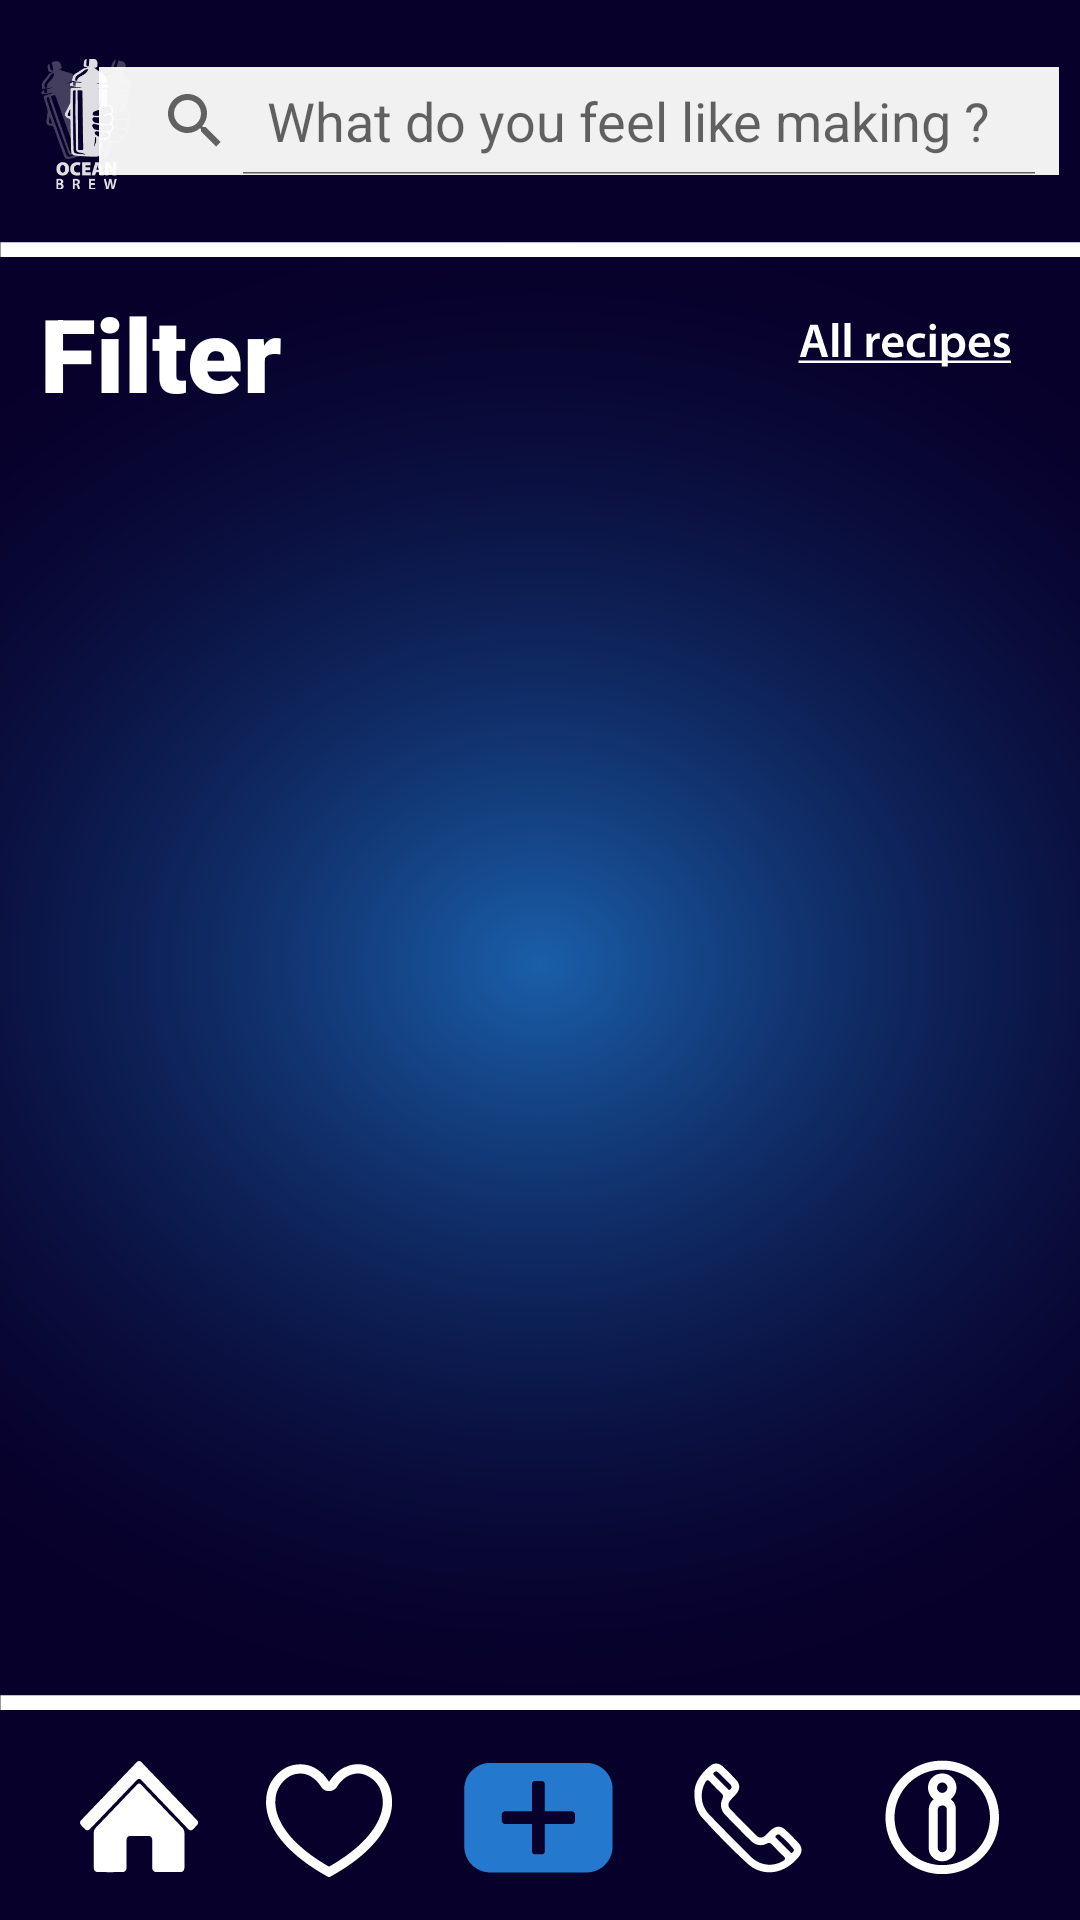

Point at icon controls on the screen. Image size 1080w x 1920h, points as (x=x, y=y).
add: (x=538, y=1818)
contactvien: (x=748, y=1818)
heartvien: (x=329, y=1820)
homeactive: (x=139, y=1817)
infovien: (x=942, y=1817)
